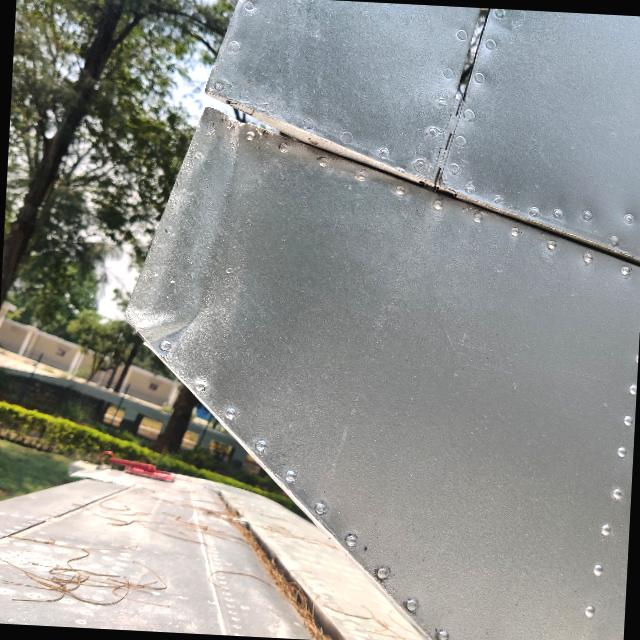dent: (125, 284, 222, 366)
